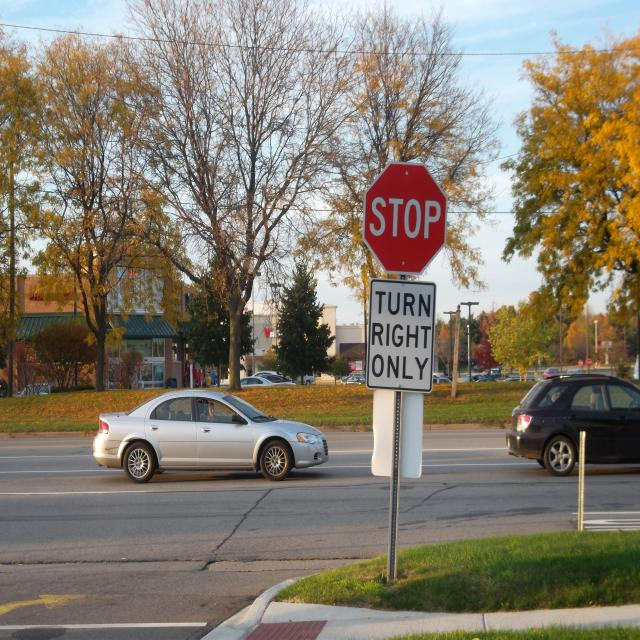regulatory: (356, 279, 461, 401)
stop: (362, 152, 457, 278)
